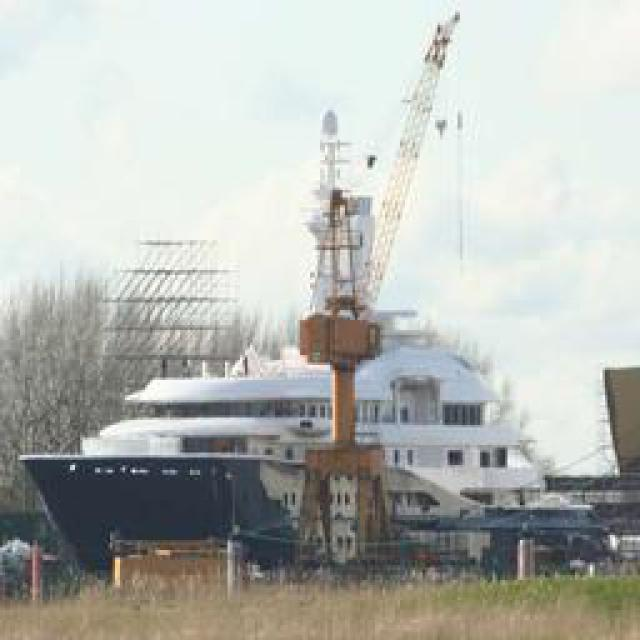Ship: (24, 343, 597, 578)
